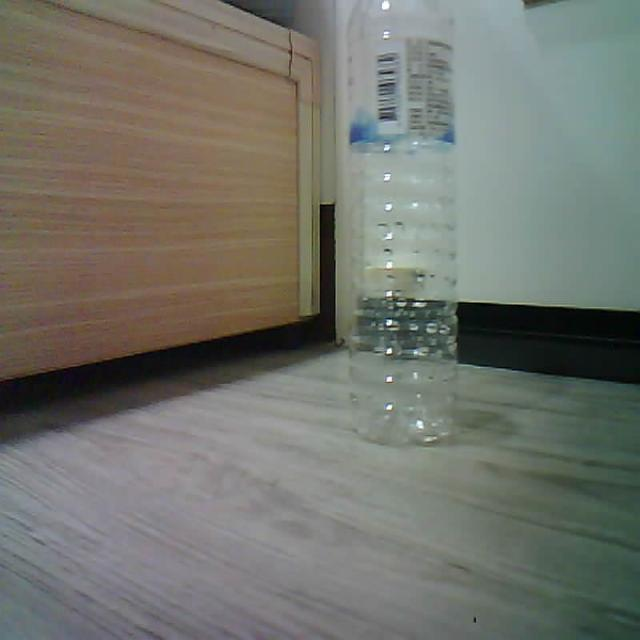bottle: (346, 0, 457, 444)
